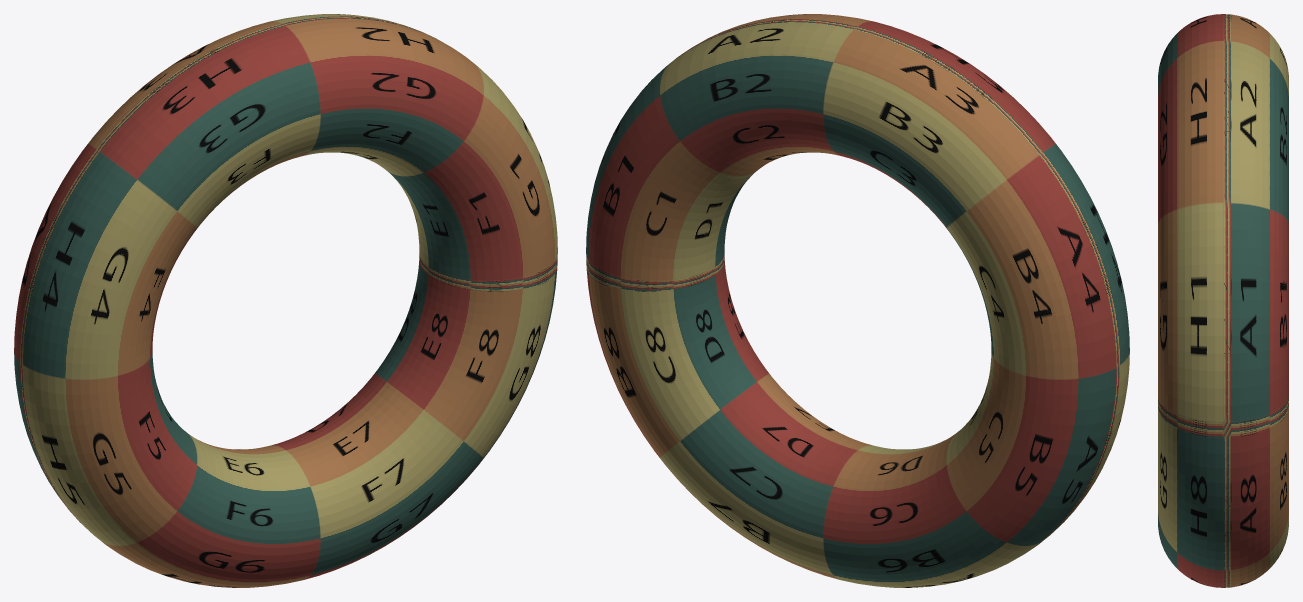
Rendered from texture_torus_R8_r7.glb.
The picture shows the model from 3 angles, left to right: view 1: azimuth 30°, elevation 25°; view 2: azimuth 150°, elevation 25°; view 3: azimuth 270°, elevation 25°; orthographic projection. The views are drawn at different scales.
Parts seen in each view (by area): view 1: world; view 2: world; view 3: world.
Boxes of the visible parts, box(x1,y1,x2,y2) form: world: box(14, 14, 557, 587); world: box(586, 14, 1129, 587); world: box(1158, 14, 1288, 587).
Bounding box in the file's own units: 36 × 36 × 8.21.
1 material, 1 textured.
